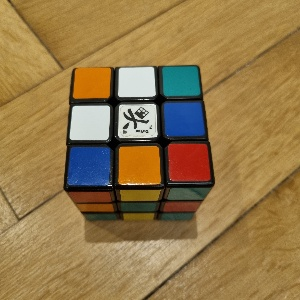cube: (62, 65, 216, 222)
